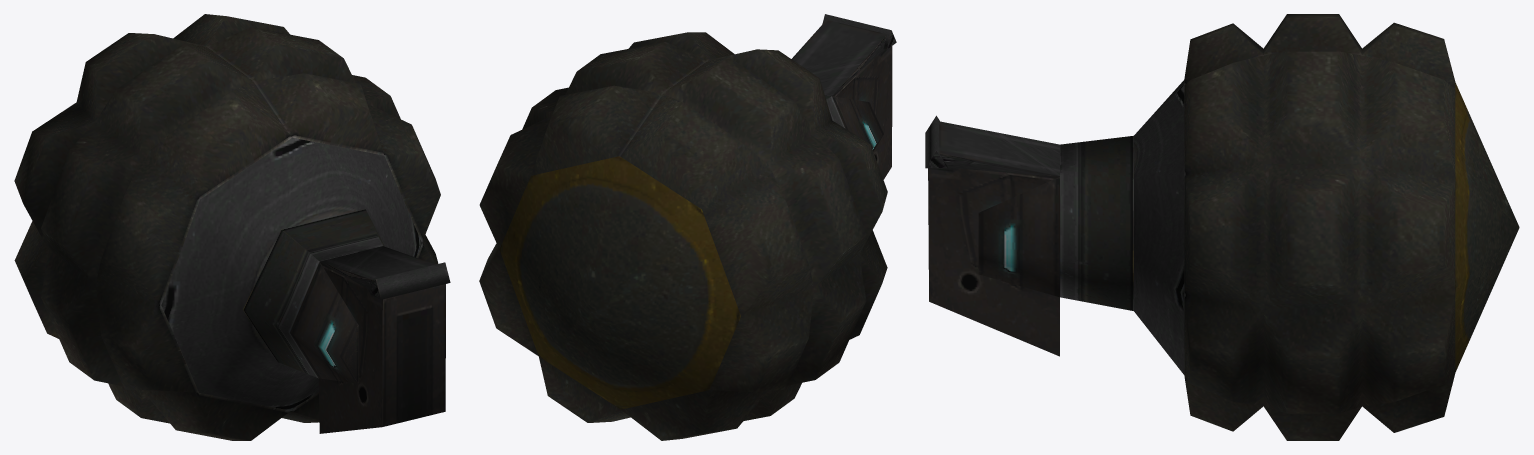
The model's file is t6_wpn_grenade_frag_projectile_LOD1.obj.
3 renders of one model, left to right at view 1: azimuth 30°, elevation 25°; view 2: azimuth 150°, elevation 25°; view 3: azimuth 270°, elevation 25°, orthographic. The views are drawn at different scales.
Visible parts, largest first — view 1: mtl_t6_wpn_grenade_frag; view 2: mtl_t6_wpn_grenade_frag; view 3: mtl_t6_wpn_grenade_frag.
Part boxes in pixels (<box>): mtl_t6_wpn_grenade_frag: <box>14,14,450,440</box>; mtl_t6_wpn_grenade_frag: <box>479,14,896,440</box>; mtl_t6_wpn_grenade_frag: <box>925,14,1519,440</box>.
Size of the model in its own units: 7.5 by 7.5 by 10.48.
